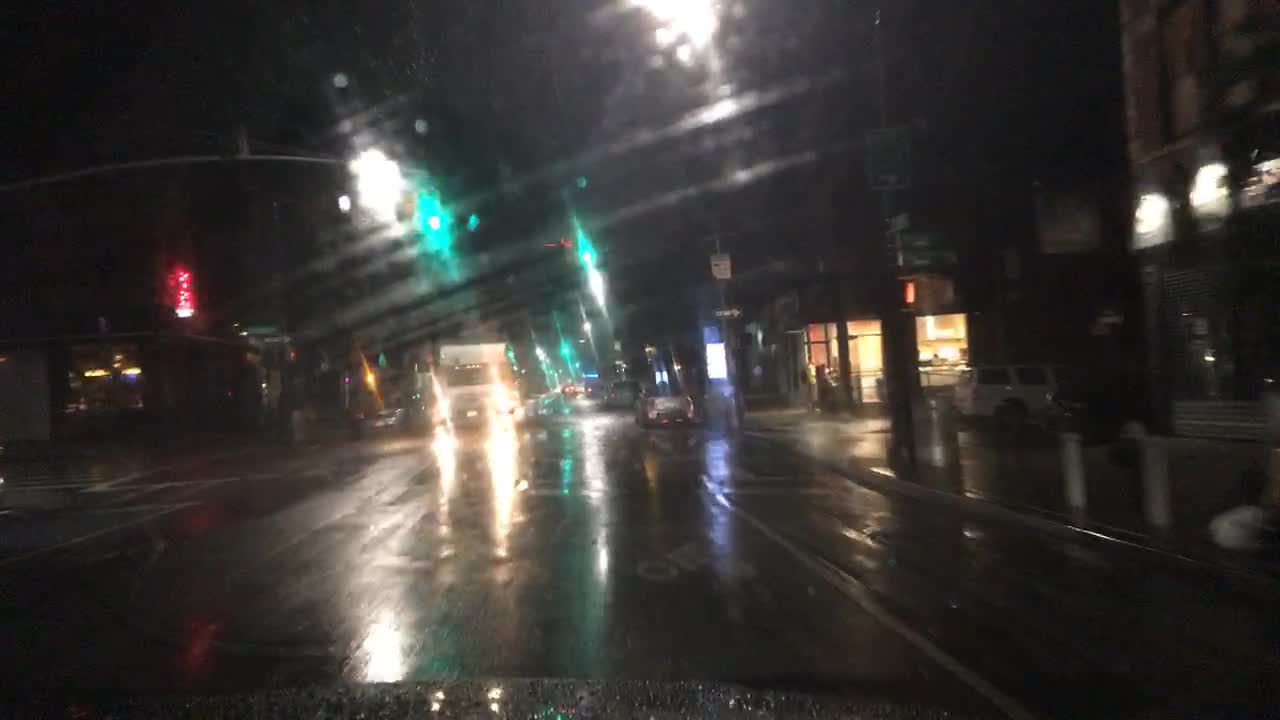car: (955, 359, 1076, 437), (1041, 371, 1155, 444), (349, 383, 427, 439), (633, 386, 695, 430), (600, 379, 644, 408), (584, 379, 604, 397), (559, 379, 576, 397)
person: (799, 353, 819, 413)
traffic light: (419, 185, 444, 236), (901, 276, 931, 312), (931, 276, 956, 311), (402, 181, 417, 237), (557, 230, 574, 270), (575, 232, 593, 268), (560, 341, 573, 358)
traffic sign: (862, 127, 911, 195), (883, 227, 947, 252), (892, 248, 960, 268), (707, 250, 731, 278), (882, 212, 907, 237), (712, 303, 742, 321)
truck: (433, 342, 524, 430)
